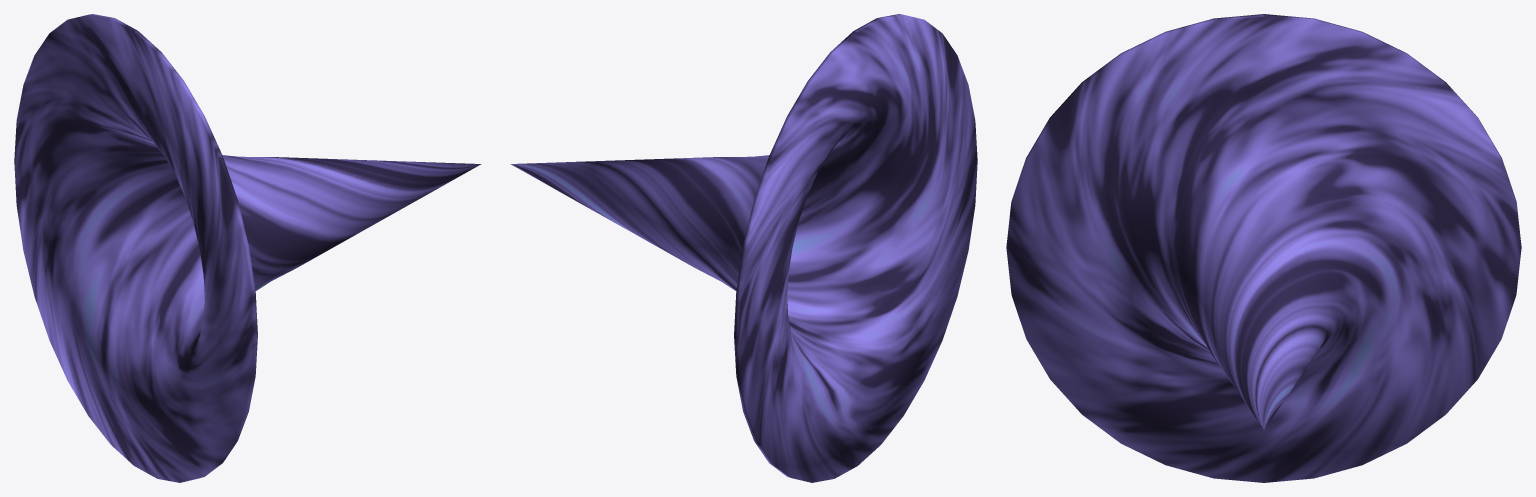
File: Goal.obj
The picture shows the model from 3 angles, left to right: view 1: azimuth 30°, elevation 25°; view 2: azimuth 150°, elevation 25°; view 3: azimuth 270°, elevation 25°; orthographic projection. The views are drawn at different scales.
Visible parts, largest first — view 1: 円柱; view 2: 円柱; view 3: 円柱.
Boxes of the visible parts, x1,y1,x2,y2 form: 円柱: (14, 14, 481, 482); 円柱: (510, 14, 977, 482); 円柱: (1006, 14, 1521, 482).
Bounding box in the file's own units: 0.8124 × 0.9586 × 0.9586.
1 material, 1 textured.
